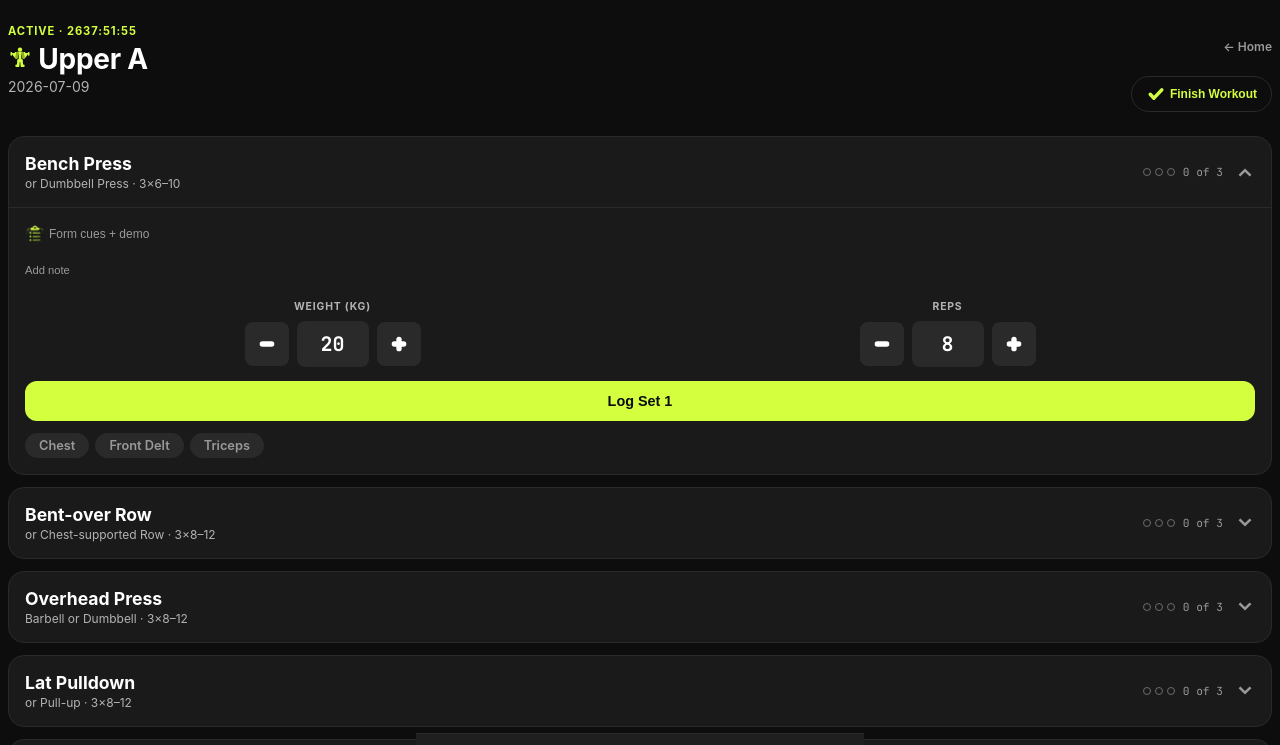
Workout page › a dead connection surfaces retry copy and keeps the typed weight/reps
This screenshot has width=1280, height=745.
Expected: the text "Bench Press" is shown, [25,153,132,174]
// Typing before the card's prefill effect runs lets the effect overwrite it.
Replace the text in the number field named "weight" with "77.5" at [332, 344], box [296,321,368,367]
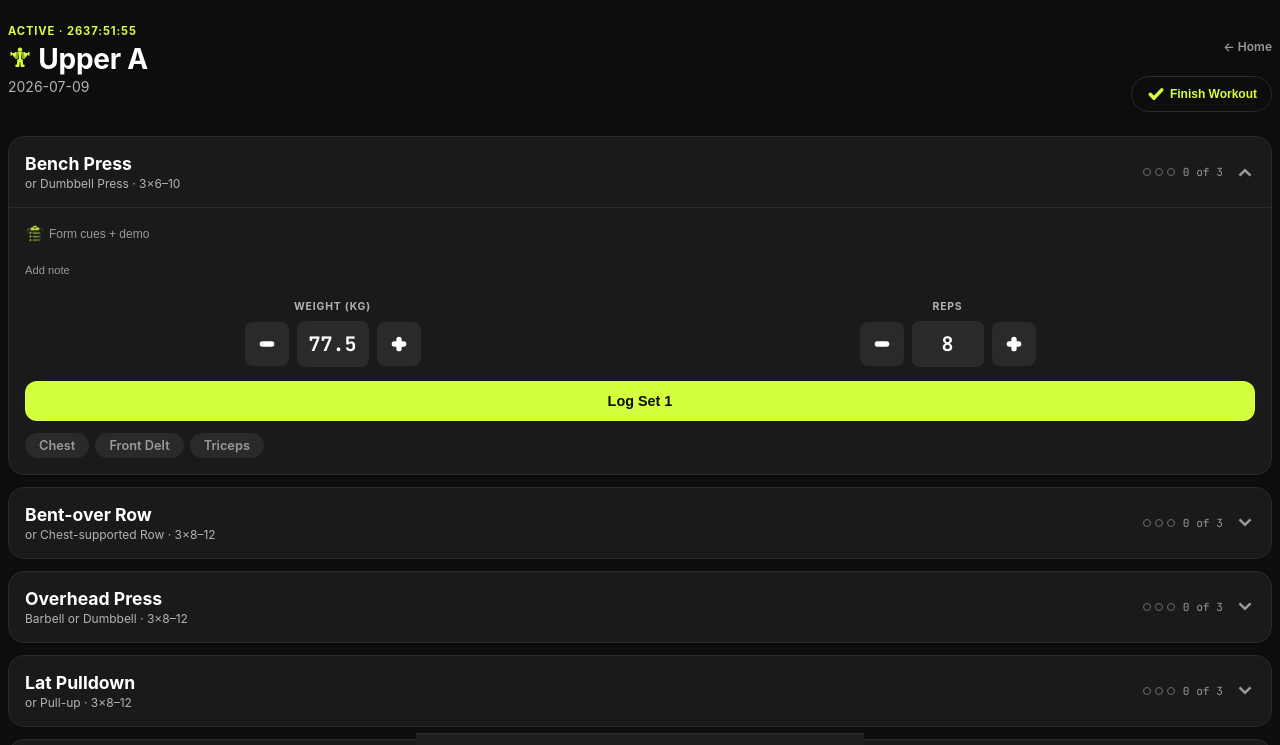
Replace the text in the number field named "reps" with "6" at [948, 344], box [912,321,984,367]
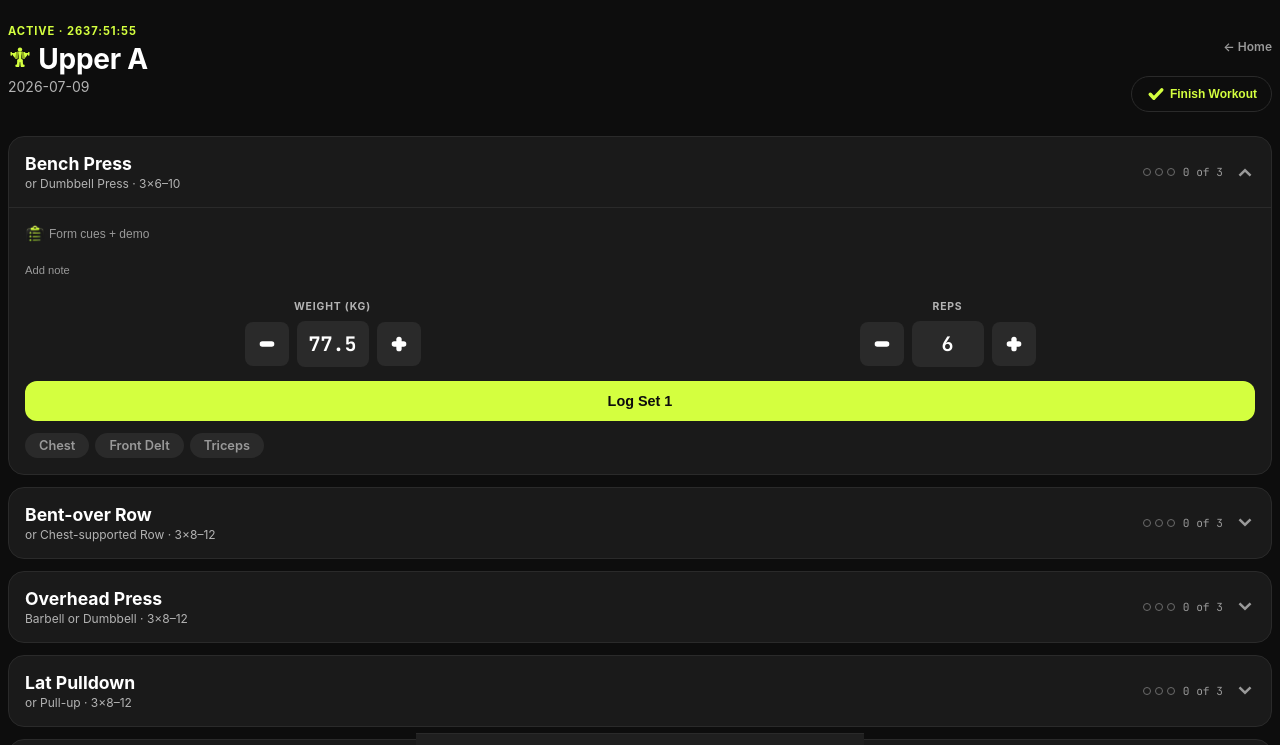
Click the button "Log Set 1".
click(640, 401)  # box [25,381,1255,421]
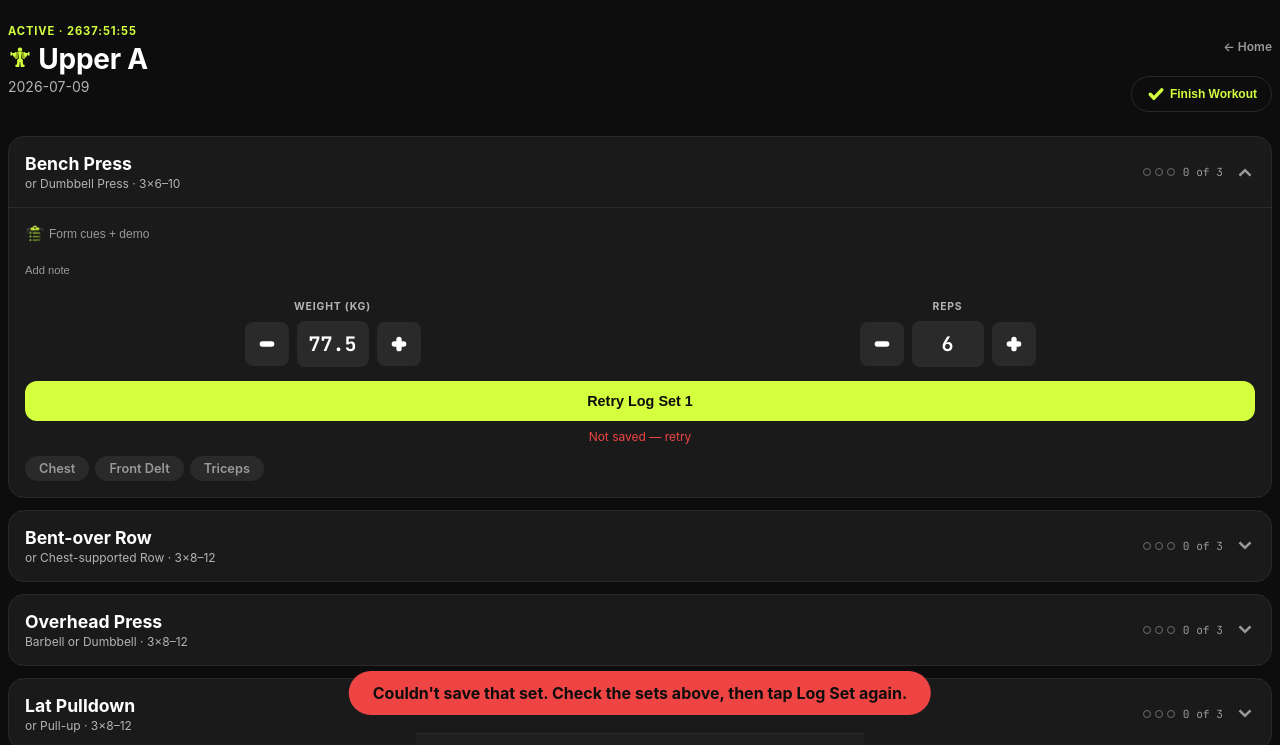
Now the text "Couldn't save that set. Check the sets above, then tap Log Set again." is shown, box [349,671,931,715]
